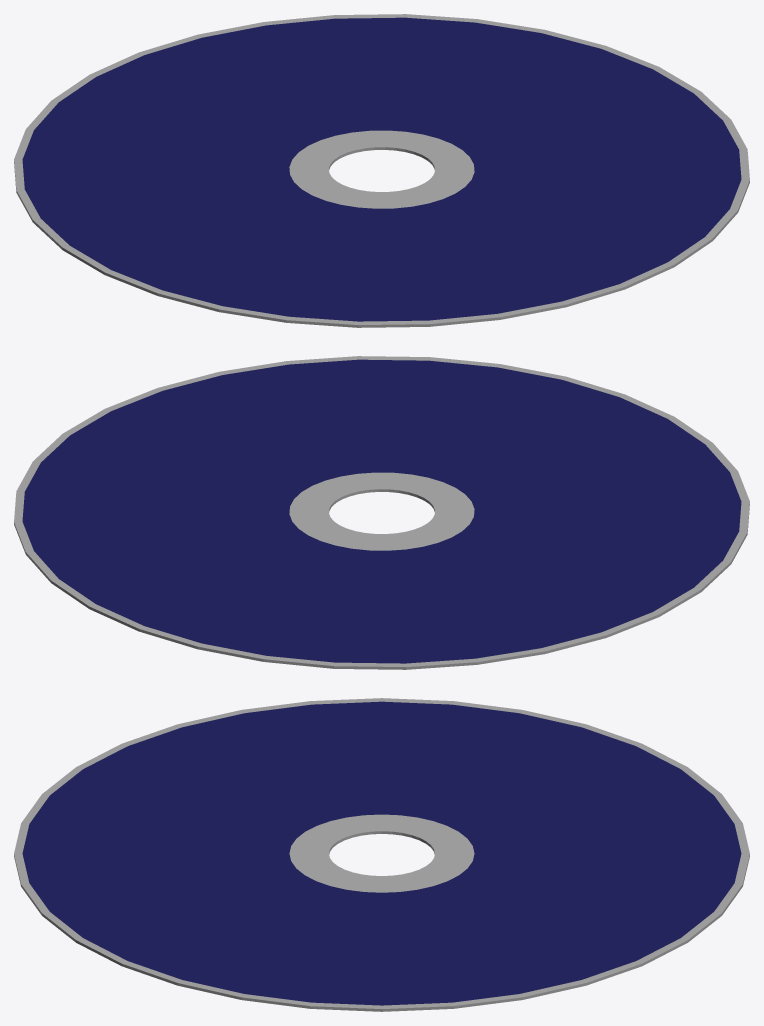
File: DiscoInstrucciones.fbx
3 renders of one model, top to bottom at view 1: azimuth 30°, elevation 25°; view 2: azimuth 150°, elevation 25°; view 3: azimuth 270°, elevation 25°, orthographic.
Visible parts, largest first — view 1: Cylinder; view 2: Cylinder; view 3: Cylinder.
Boxes of the visible parts, <box> form: Cylinder: <box>14,14,749,327</box>; Cylinder: <box>14,356,749,669</box>; Cylinder: <box>14,698,749,1011</box>.
Bounding box in the file's own units: 245 × 1 × 245.
